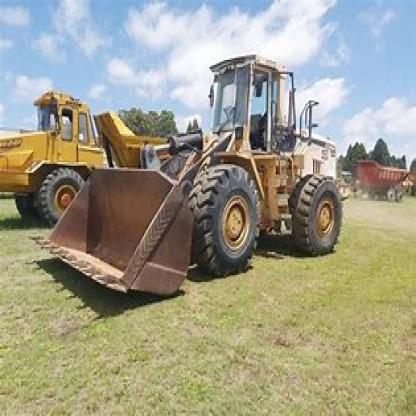bull_dozer/loader/grader: (32, 41, 356, 310)
